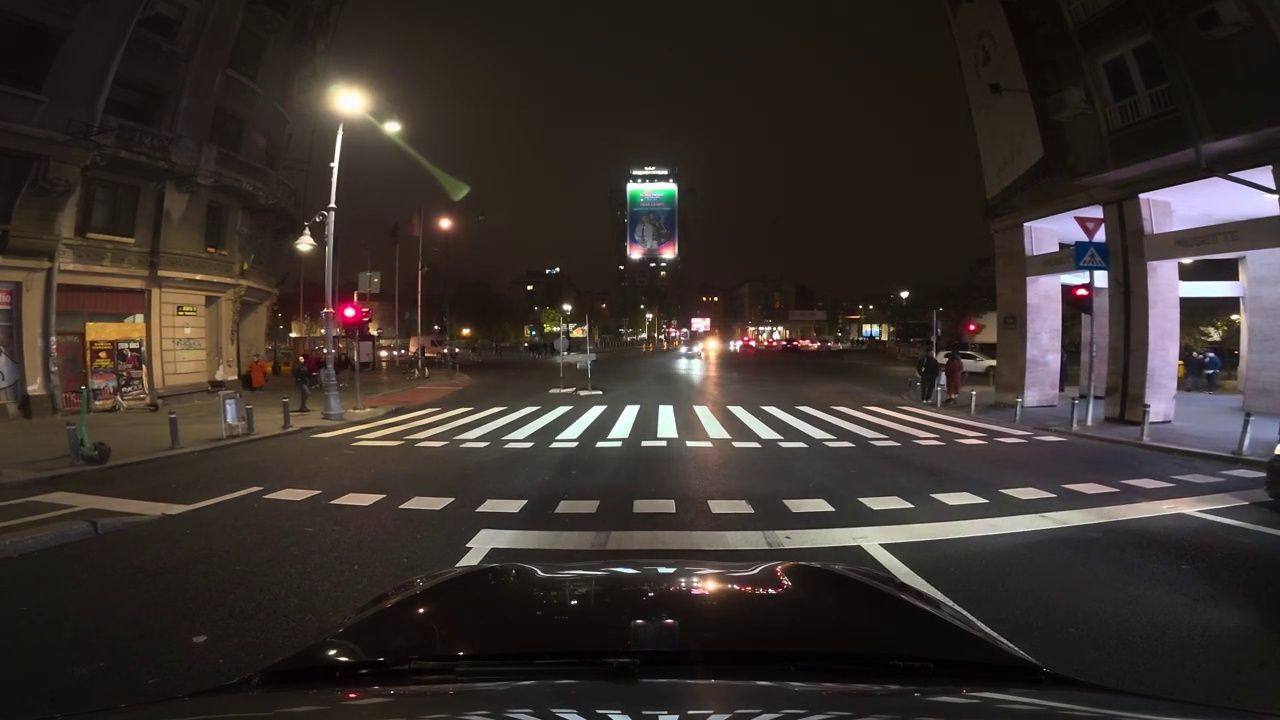acesa: (329, 86, 368, 117), (293, 234, 318, 256), (433, 214, 456, 235), (381, 120, 404, 139), (451, 182, 469, 200)
